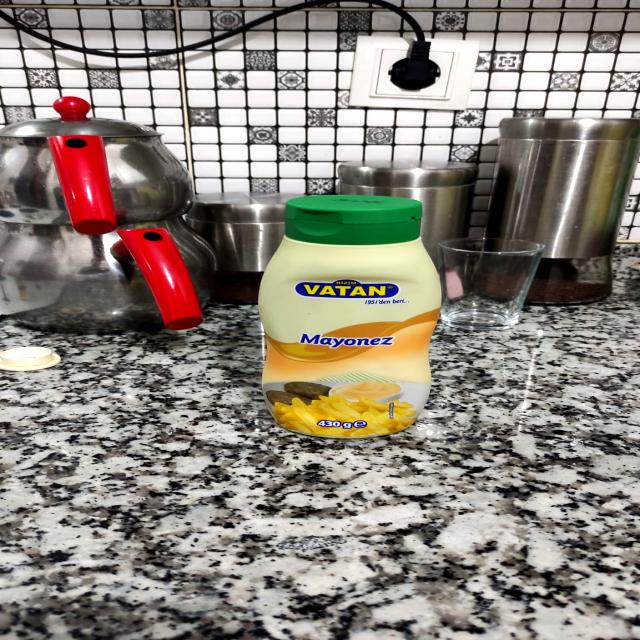mayonnaise: (242, 190, 468, 442)
